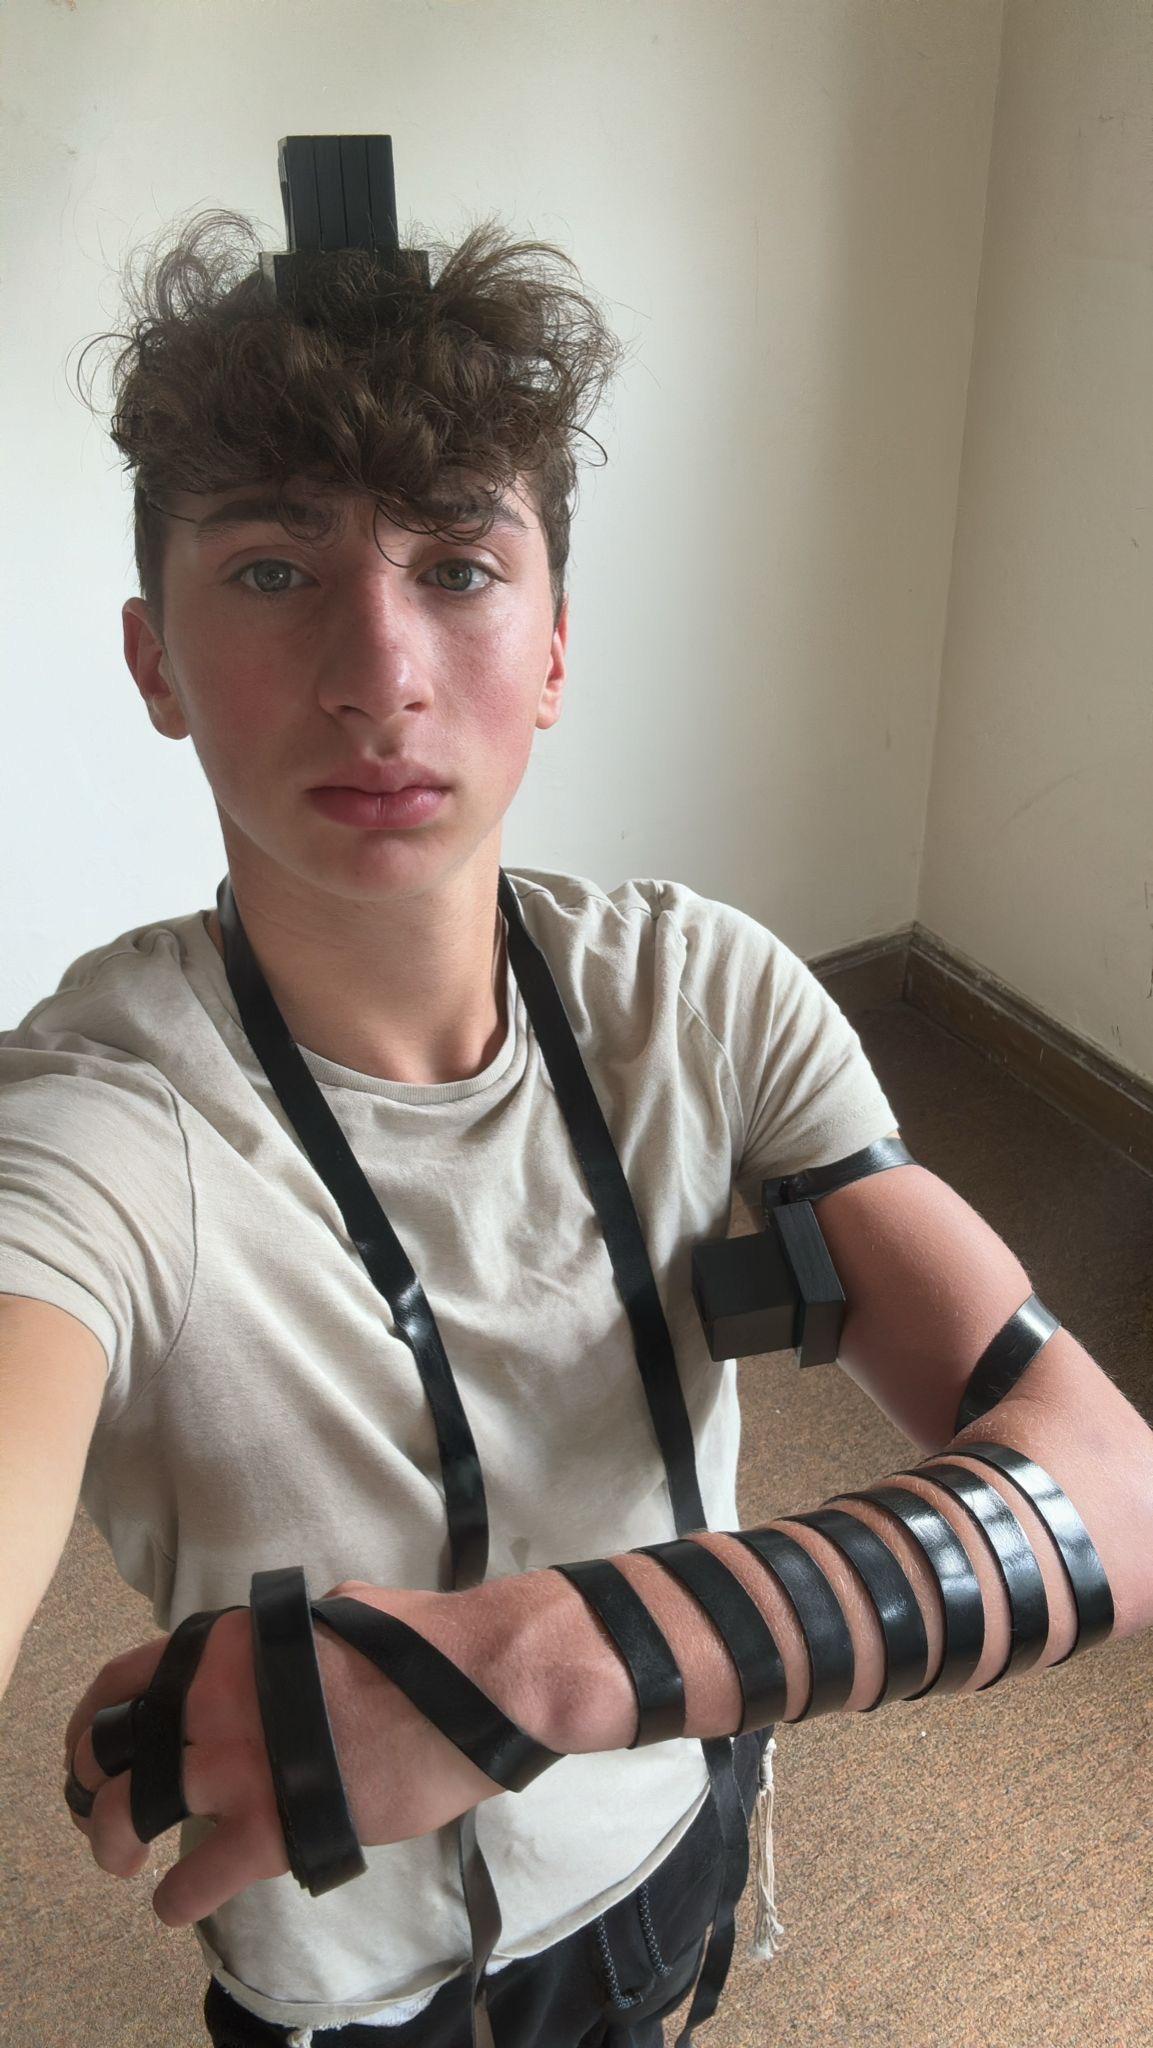tefillin: (256, 139, 442, 332), (690, 1198, 851, 1369)
